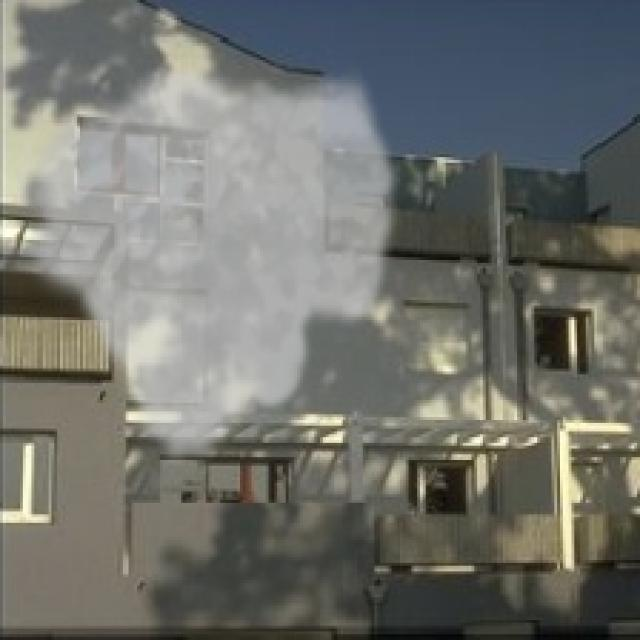smoke: (17, 60, 406, 469)
